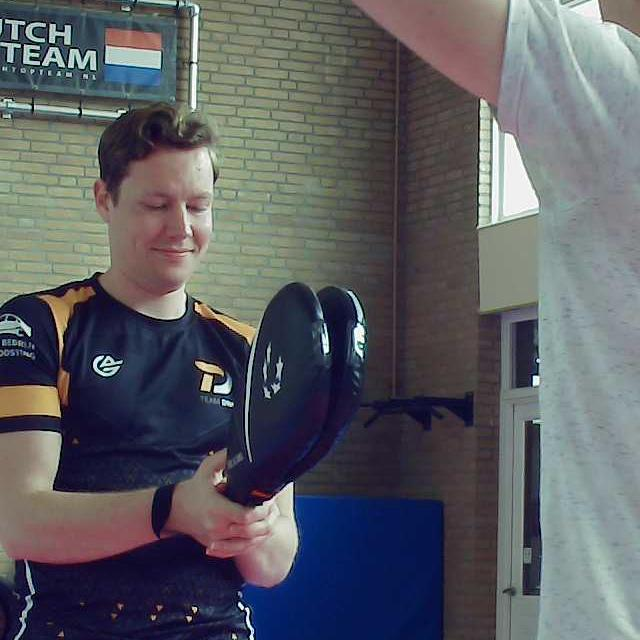paddle: (222, 282, 367, 508)
